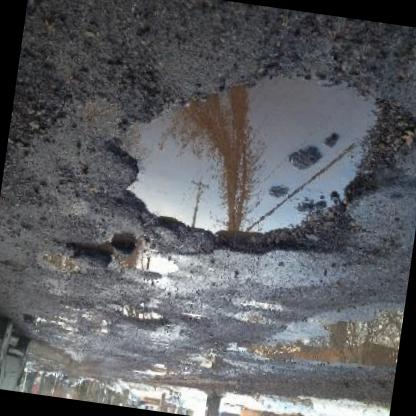pothole: (95, 51, 416, 281), (117, 303, 167, 330), (32, 251, 82, 277), (134, 254, 180, 281)
